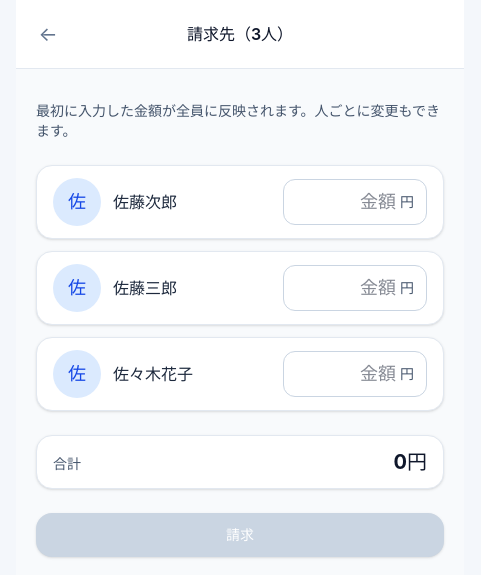
Test: BillingAmountPage › 金額のオートフィル › 最初に入力した金額を全員へ反映する
Type "1000" into the field labelled "佐藤次郎" at (346, 202), box 296,188 -> 396,216
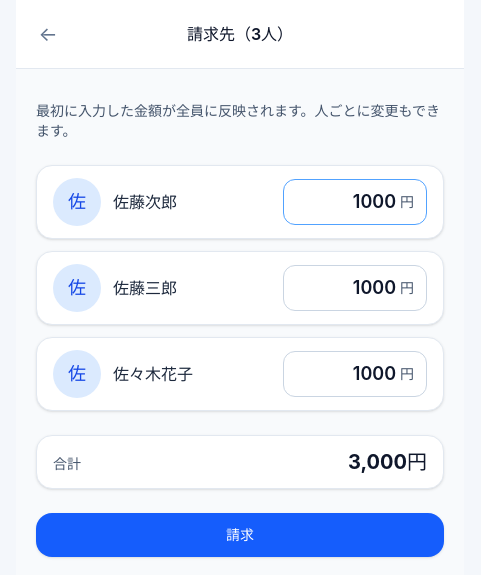
Check: the field labelled "佐藤三郎" holds "1000", box 296,274 -> 396,302
Check: the field labelled "佐々木花子" holds "1000", box 296,360 -> 396,388
Check: the text "3,000円" is shown, box 348,448 -> 427,476
